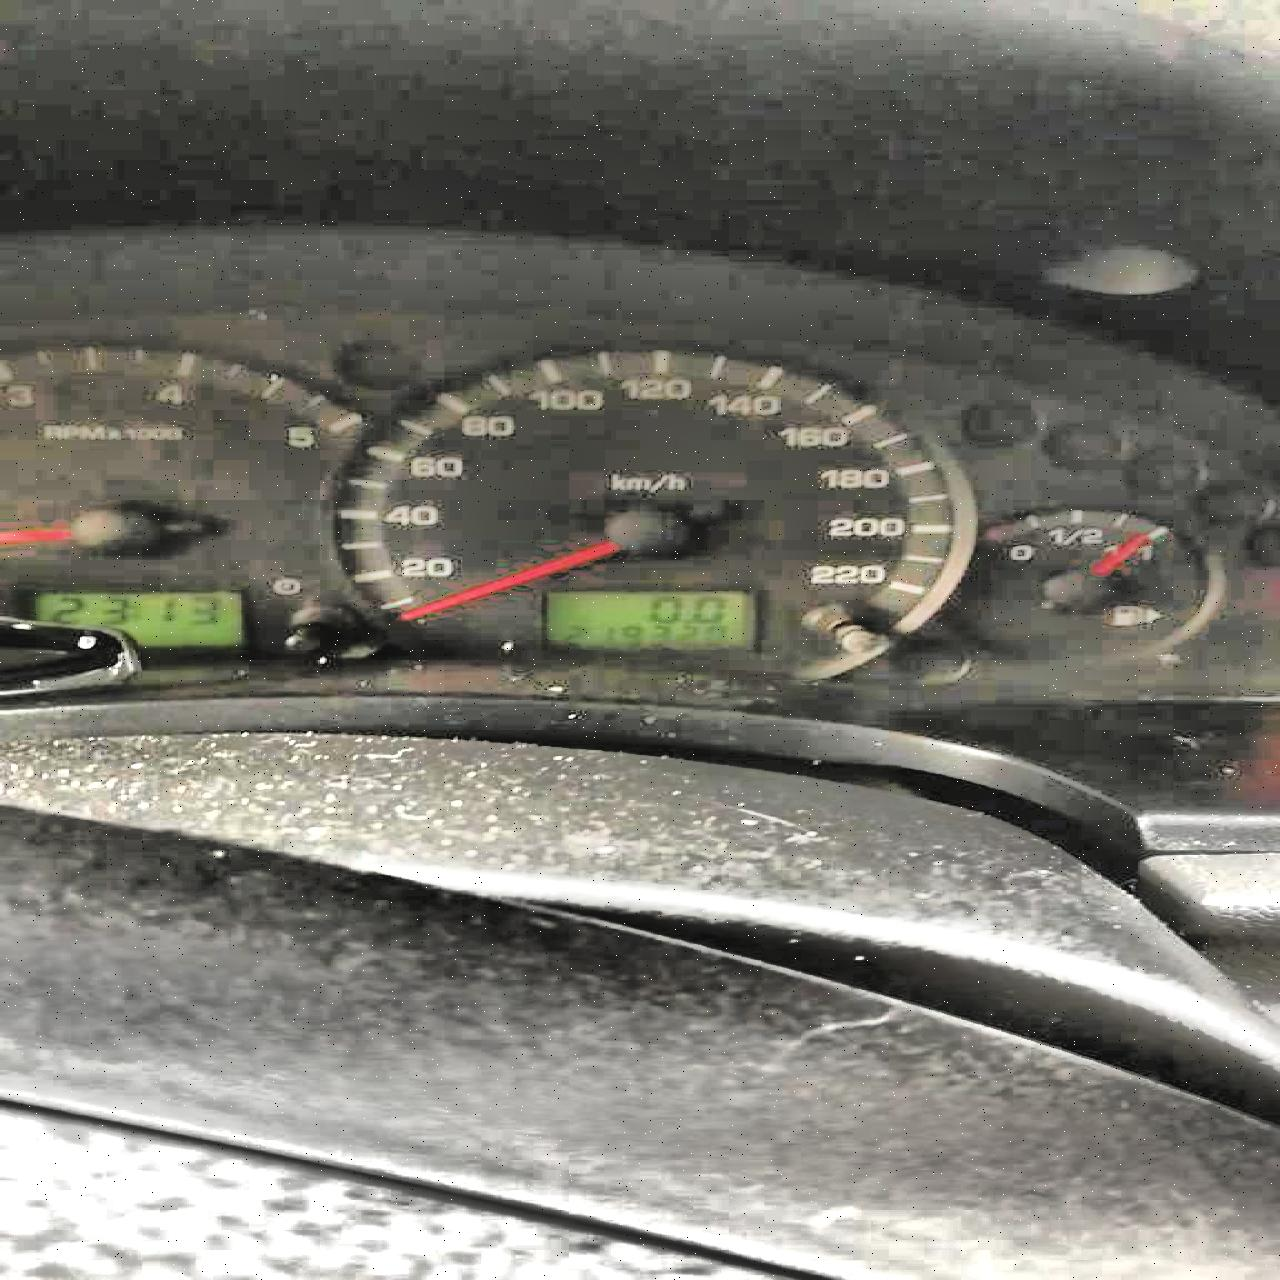-: (682, 617, 692, 622)
0: (647, 595, 680, 622), (692, 595, 724, 622), (700, 624, 724, 645)
1: (595, 624, 615, 644)
2: (558, 624, 584, 642), (674, 624, 695, 644)
3: (645, 624, 669, 645)
9: (618, 622, 640, 645)
odometer: (531, 584, 751, 654)
